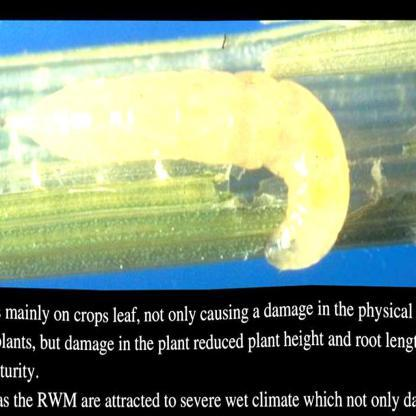whorl-maggot: (1, 61, 359, 274)
